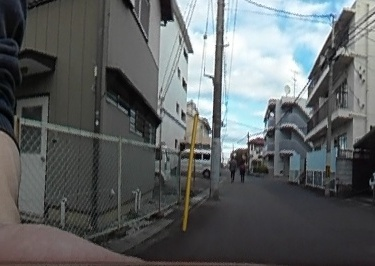person: (226, 152, 237, 178), (237, 155, 247, 181)
